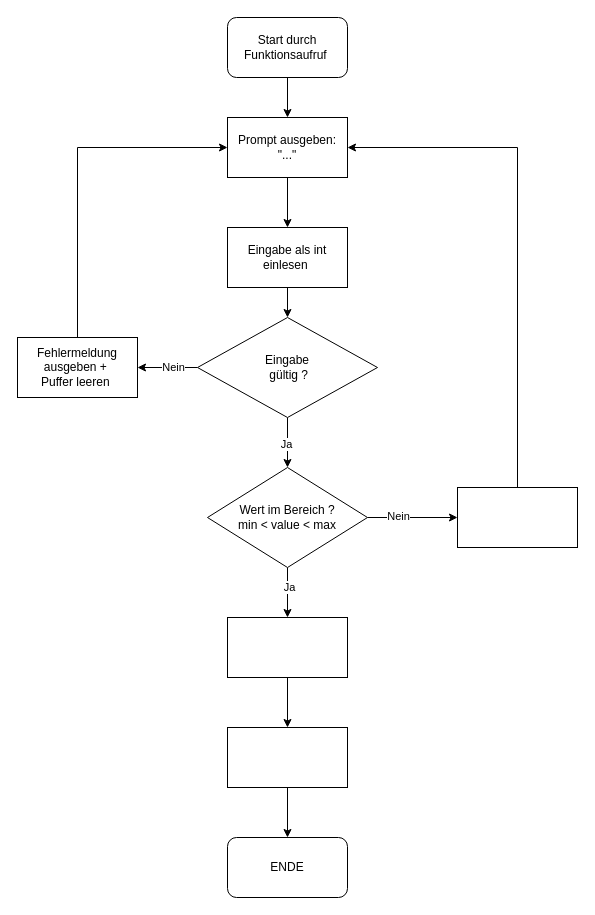
Some shapes in this 595 by 915 pixel diagram are drawn without their labels. Here are the shapes that lost their labels. From the top down, the centre of each, then its label:
At (517,517): "Fehlermeldung ausgeben".
At (287,647): "out_wert = value".
At (287,757): "return true".
